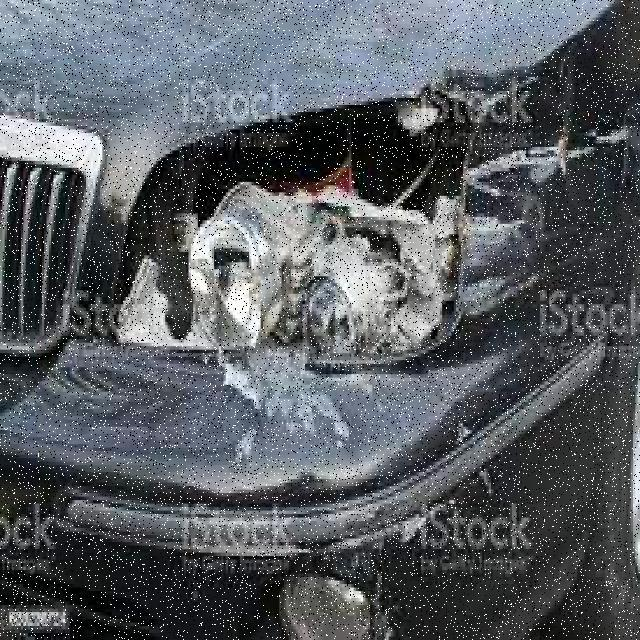Headlight-Damage: (131, 105, 487, 360)
fender-dent: (440, 0, 638, 420)
front-bumper-dent: (0, 332, 638, 636)
